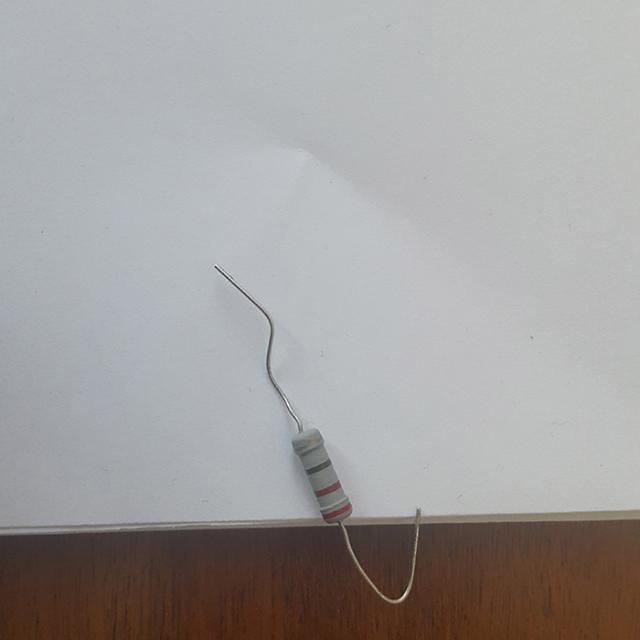brown: (304, 459, 330, 475)
gold: (295, 436, 322, 454)
red: (322, 501, 349, 518), (315, 480, 339, 496)
resistor: (273, 414, 367, 538)
